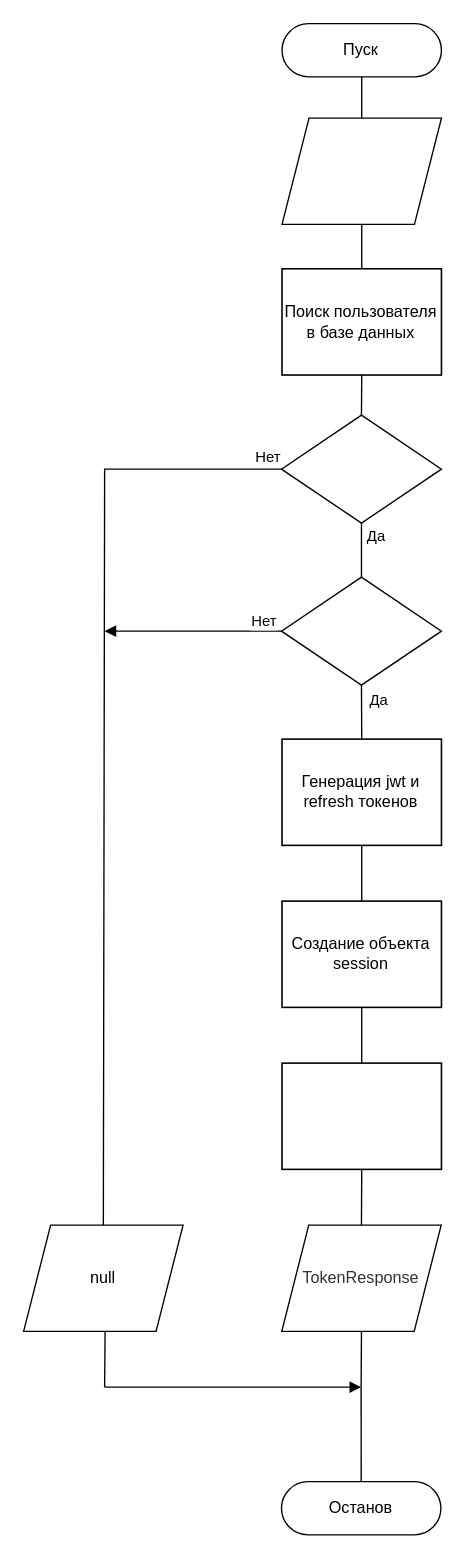
This 466x1559 diagram has some shape labels left out. Each missing label, with the centre of its shape:
"Добавление session в БД" belongs at point (361, 1116).
"Логин, пароль и имя устройства пользователя" belongs at point (361, 170).
"Пароль верен?" belongs at point (360, 630).
"Пользователь найден?" belongs at point (360, 468).
